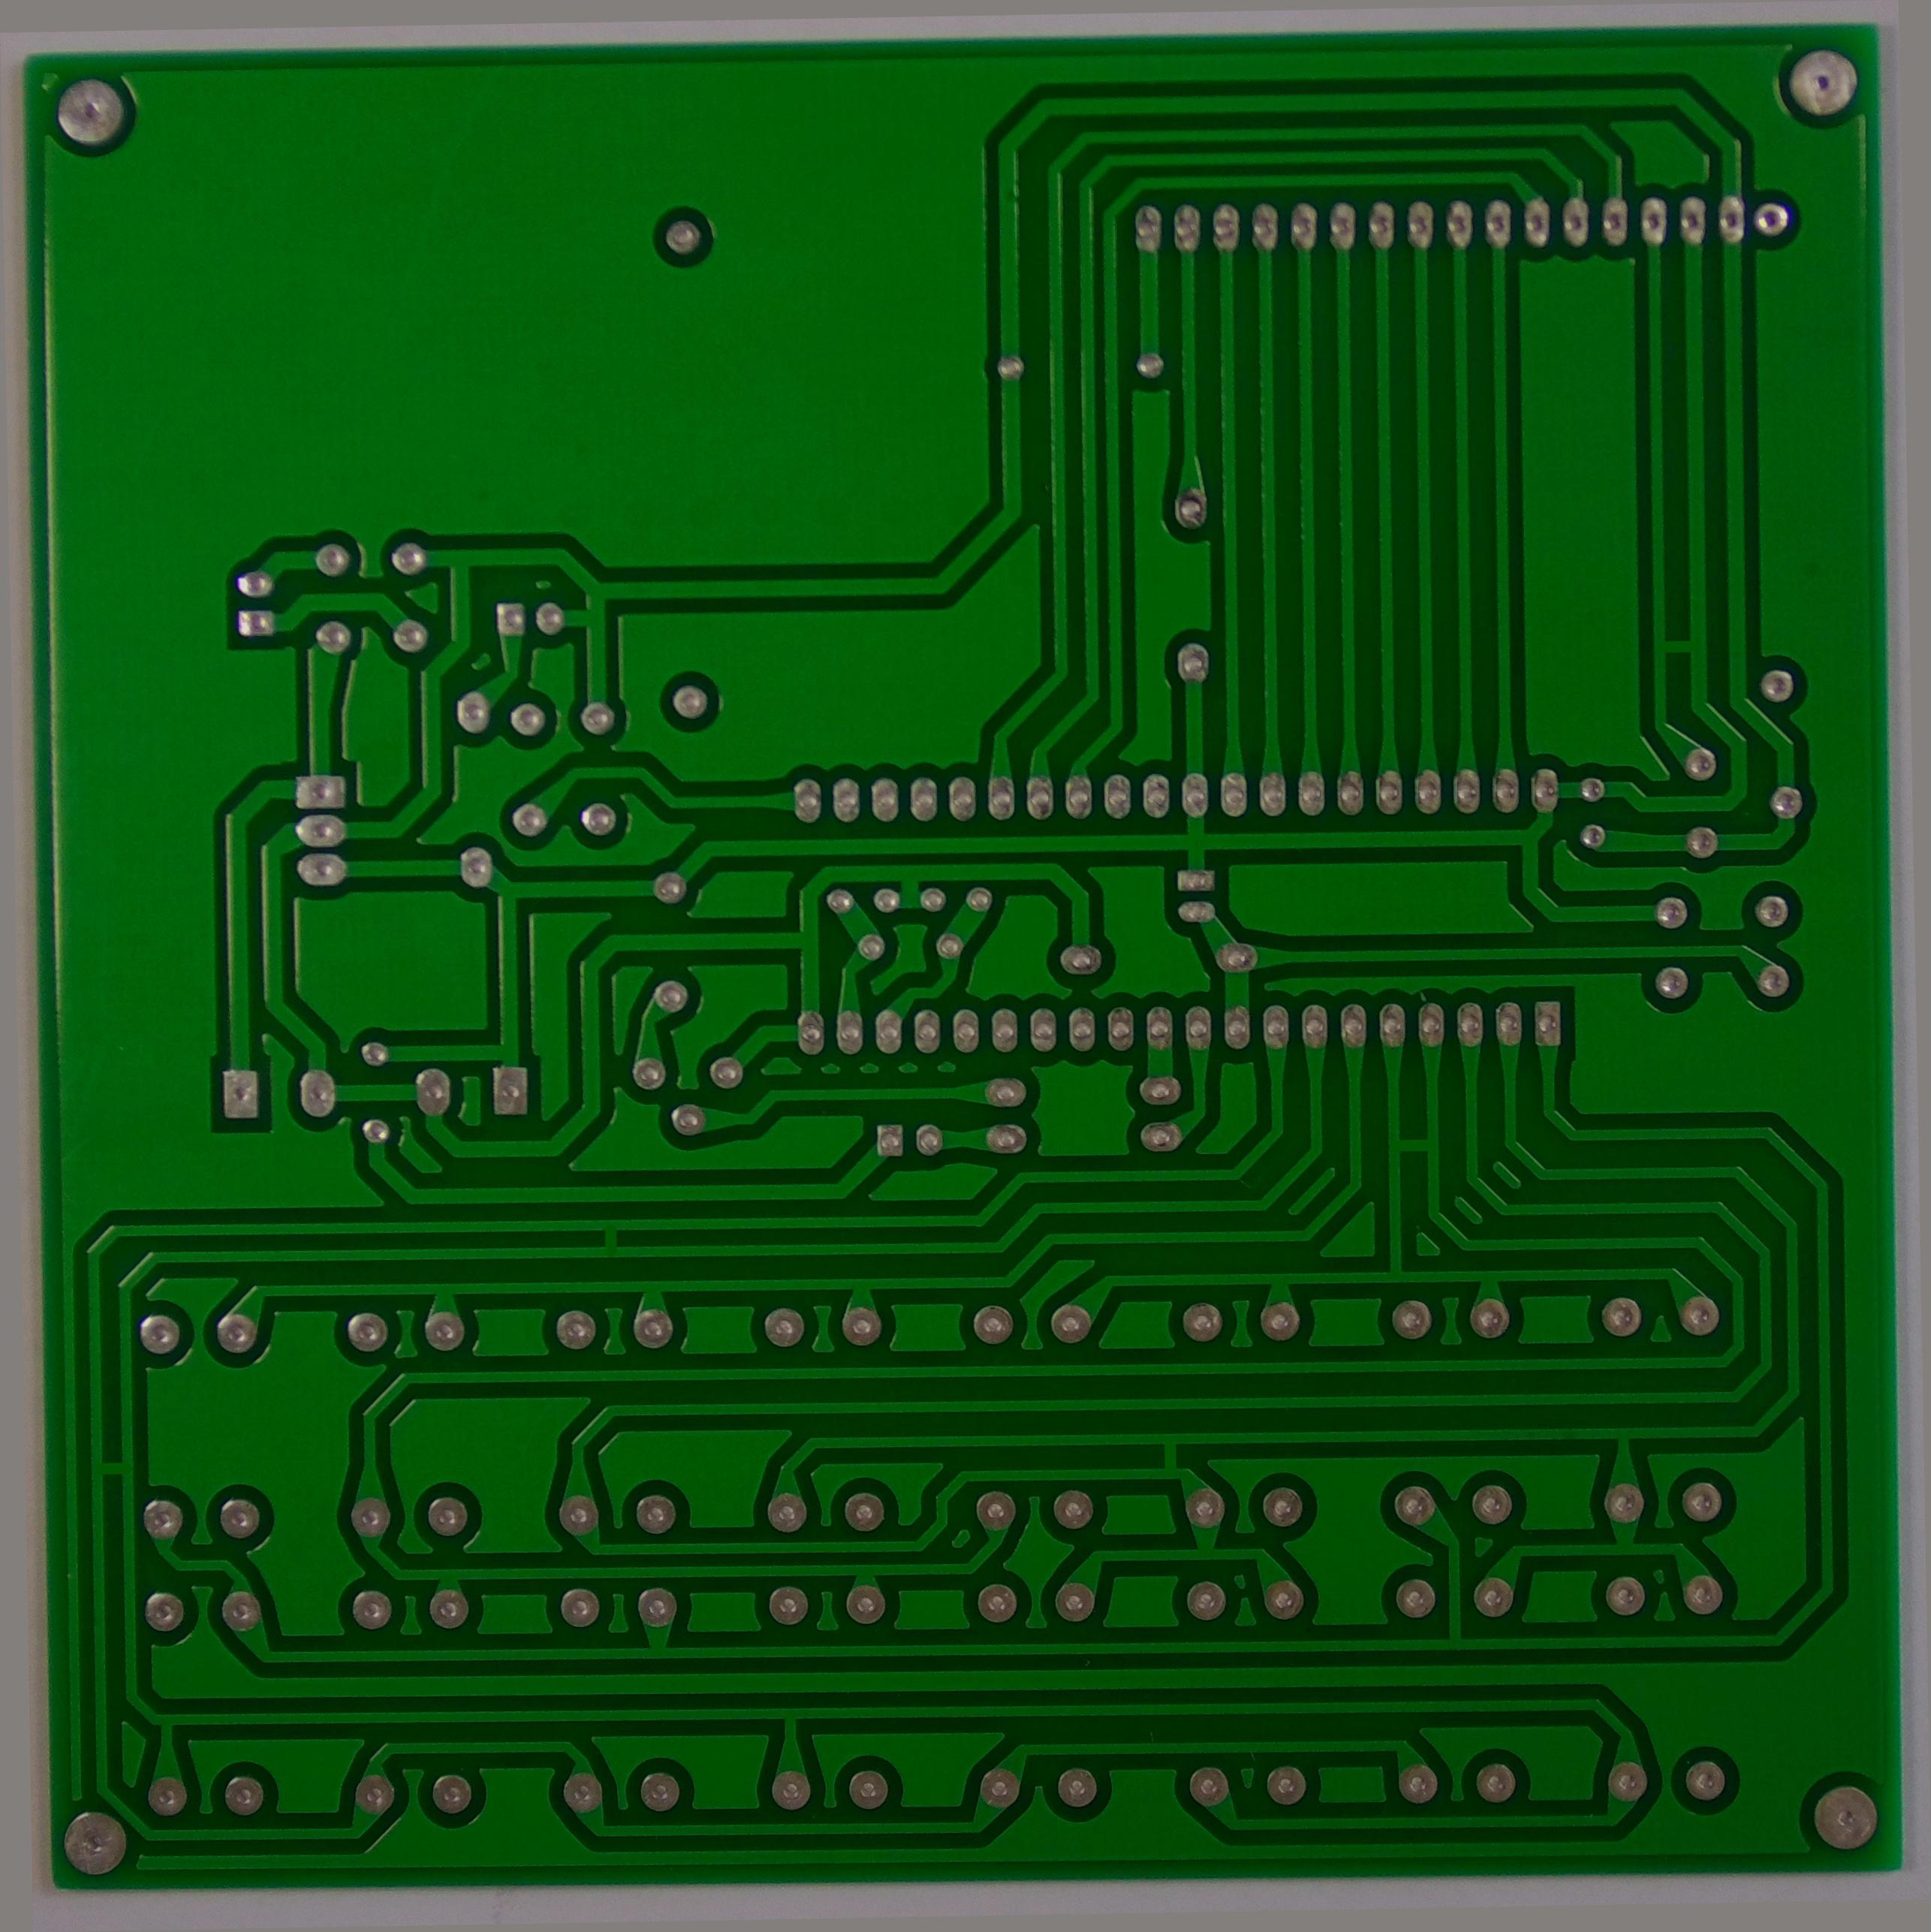short: (1376, 1122, 1448, 1173), (81, 1442, 143, 1490), (1646, 621, 1706, 667), (1144, 1430, 1192, 1484), (589, 1208, 631, 1260)
